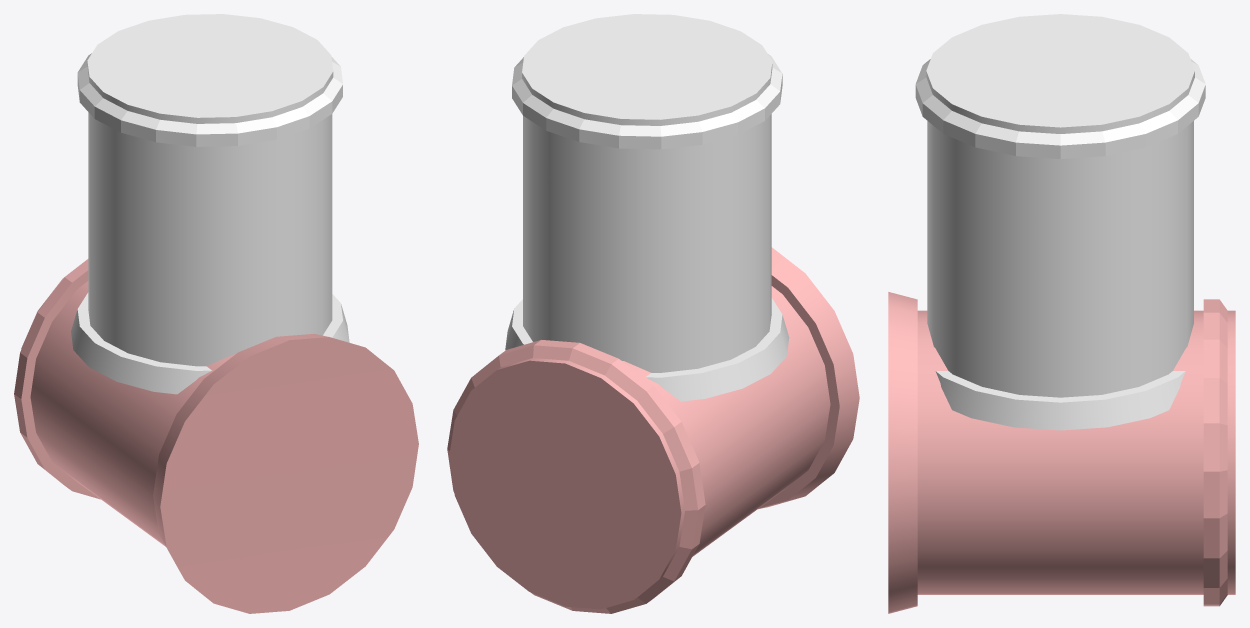
The model's file is quallen.glb.
The picture shows the model from 3 angles, left to right: view 1: azimuth 30°, elevation 25°; view 2: azimuth 150°, elevation 25°; view 3: azimuth 270°, elevation 25°; orthographic projection. The views are drawn at different scales.
Parts seen in each view (by area): view 1: tank, tankShapeEnvelope; view 2: tank, tankShapeEnvelope; view 3: tank, tankShapeEnvelope.
Part boxes in pixels (box(x1,y1,x2,y2)): tank: box(71, 14, 349, 394); tankShapeEnvelope: box(14, 259, 418, 613); tank: box(505, 14, 789, 401); tankShapeEnvelope: box(447, 247, 859, 613); tank: box(915, 14, 1205, 430); tankShapeEnvelope: box(888, 292, 1235, 613).
Size of the model in its own units: 2.27 by 4.08 by 2.43.
